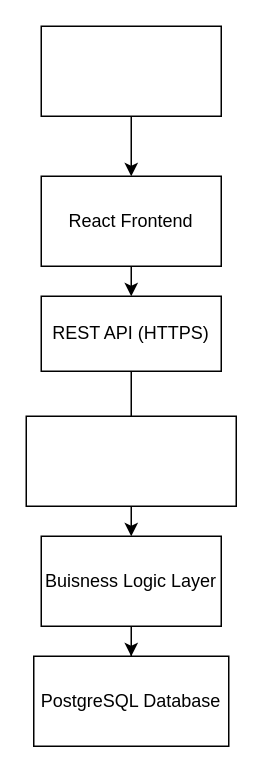
The diagram is 263 pixels wide and 773 high, and some of its shapes have lost their labels. The box of each missing label's shape, as (x1, y1, x2, y2) in pixels:
ASP.NET Core Web API: (25, 415, 236, 506)
User: (40, 25, 221, 116)
